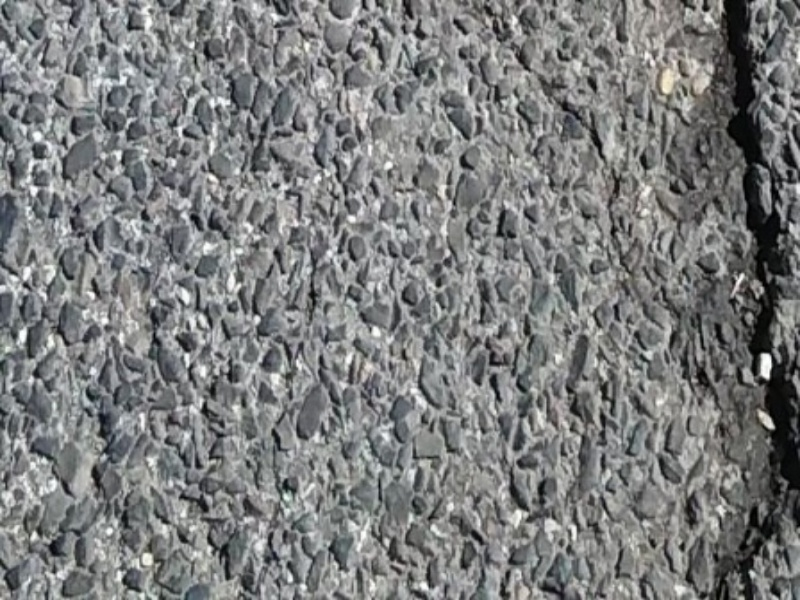crack: (723, 9, 794, 600)
